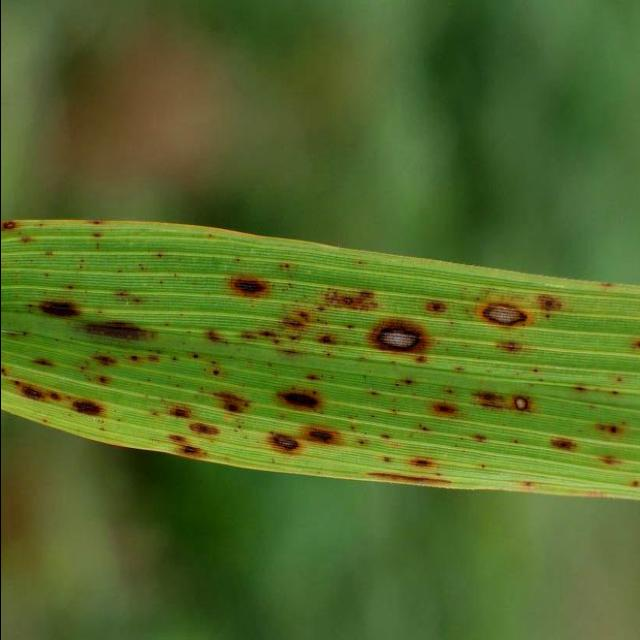Brown_Spot: (72, 304, 160, 354), (375, 319, 435, 362), (279, 377, 335, 416), (475, 298, 533, 332), (7, 372, 68, 404), (31, 286, 77, 328), (214, 384, 260, 426), (68, 393, 116, 432), (224, 268, 278, 302), (428, 390, 466, 432), (302, 420, 349, 452), (538, 284, 572, 322), (266, 430, 306, 458), (589, 408, 630, 432), (366, 470, 456, 480), (188, 416, 226, 438), (404, 446, 442, 468), (511, 383, 533, 419), (170, 441, 212, 459), (168, 398, 196, 424), (550, 432, 580, 452), (599, 450, 624, 472), (0, 212, 17, 236), (630, 329, 640, 356), (629, 480, 640, 488)
